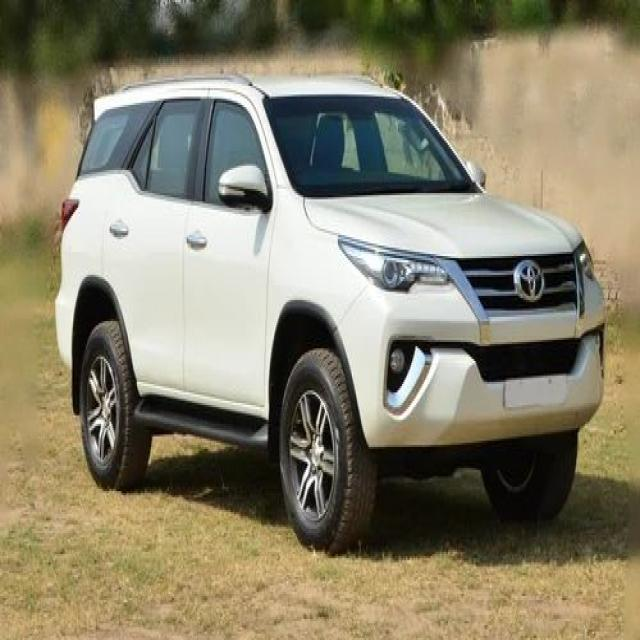light_vehicle: (55, 71, 608, 554)
